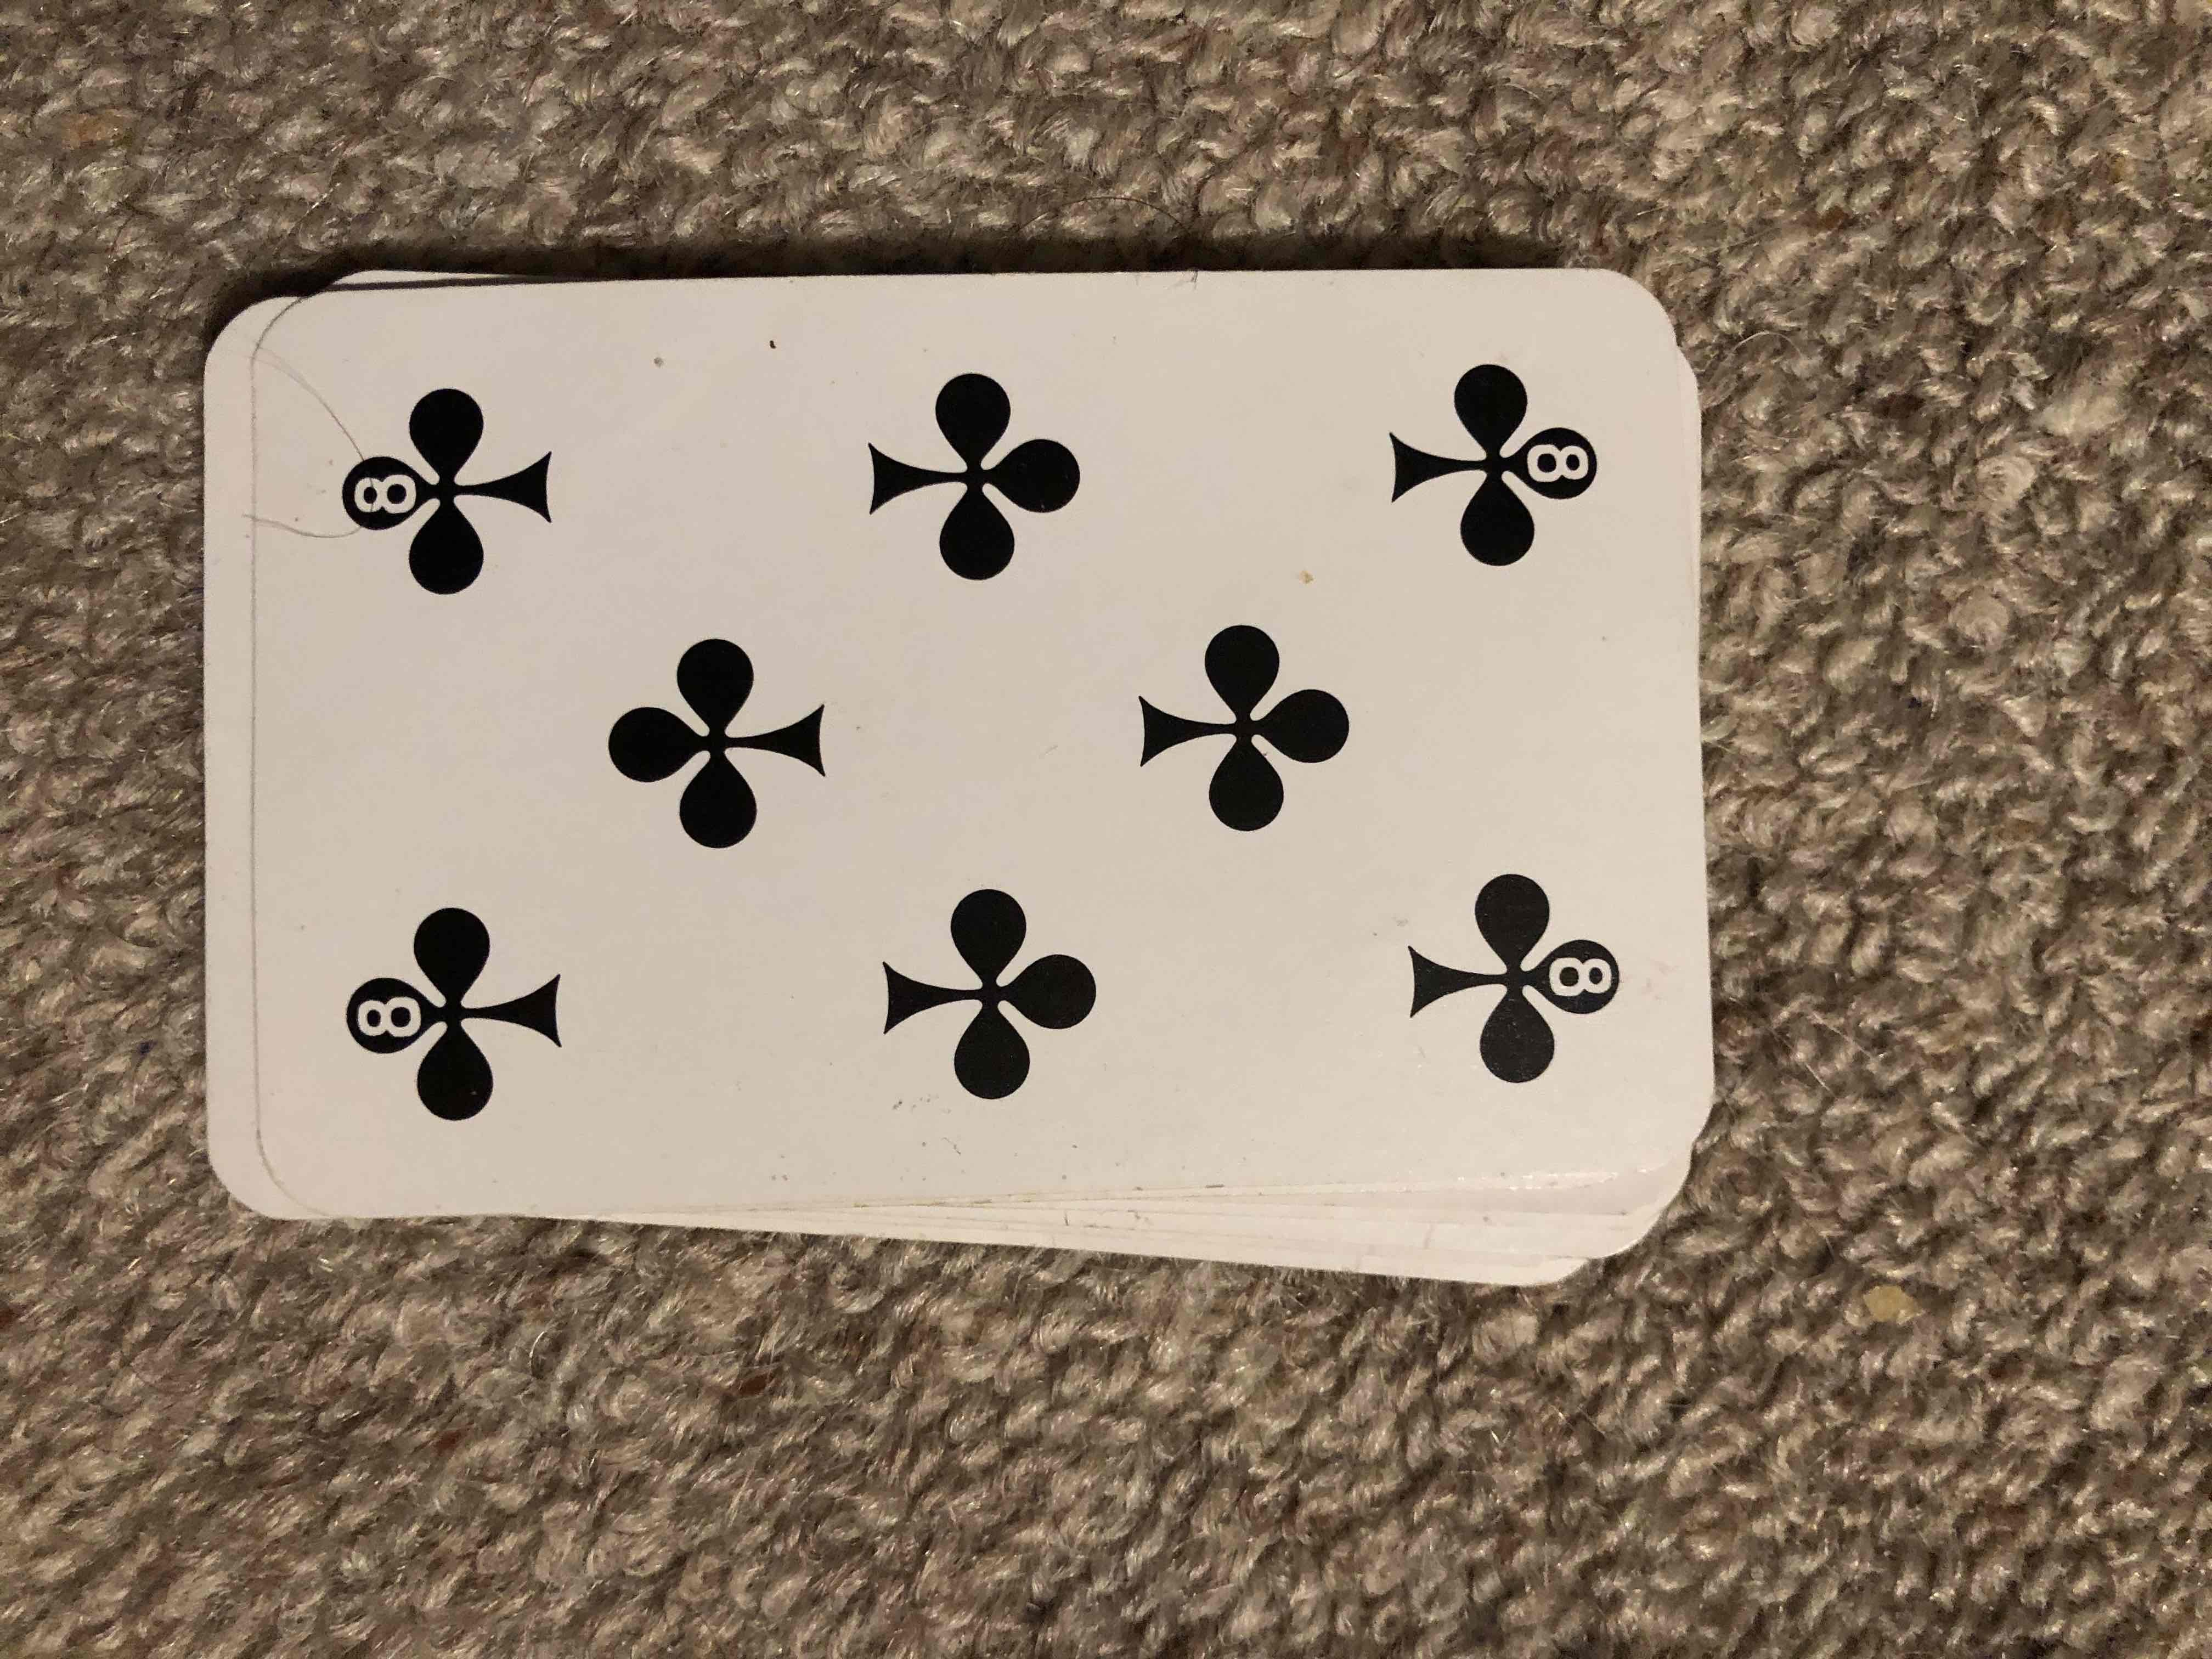clubs8: (242, 301, 1703, 1192)
